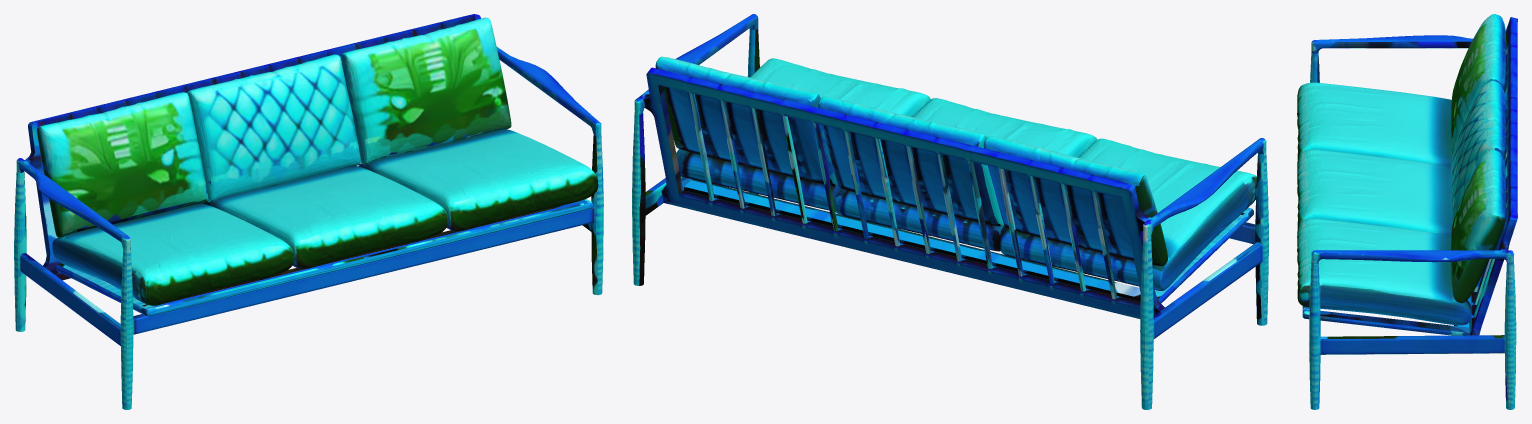
File: edited_mesh.glb
3 renders of one model, left to right at view 1: azimuth 30°, elevation 25°; view 2: azimuth 150°, elevation 25°; view 3: azimuth 270°, elevation 25°, orthographic. The views are drawn at different scales.
Parts seen in each view (by area): view 1: solid_001_wire; view 2: solid_001_wire; view 3: solid_001_wire.
Boxes of the visible parts, <box> form: solid_001_wire: <box>14,14,603,409</box>; solid_001_wire: <box>632,14,1268,409</box>; solid_001_wire: <box>1297,14,1517,409</box>.
Size of the model in its own units: 2 by 0.7861 by 0.8303.
1 material, 1 textured.
